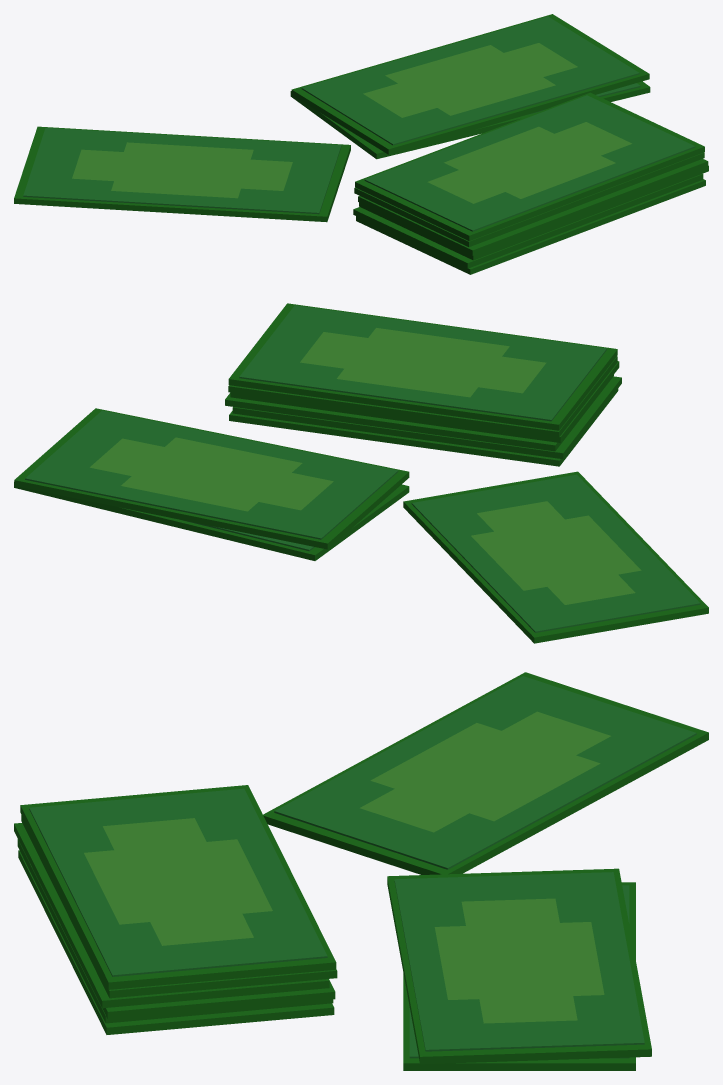
Rendered from cash.fbx.
3 renders of one model, top to bottom at view 1: azimuth 30°, elevation 25°; view 2: azimuth 150°, elevation 25°; view 3: azimuth 270°, elevation 25°, orthographic. The views are drawn at different scales.
Parts seen in each view (by area): view 1: money.002, money.003, money.007, money.001; view 2: money.002, money.003, money.007, money.001; view 3: money.002, money.007, money.003, money.001.
Boxes of the visible parts, x1,y1,x2,y2 form: money.002: (353,92,708,274); money.003: (291,14,649,154); money.007: (14,126,350,222); money.001: (290,81,650,159); money.002: (225,303,621,466); money.003: (14,408,409,549); money.007: (403,471,708,643); money.001: (14,482,409,560); money.002: (14,785,337,1034); money.007: (263,672,708,874); money.003: (387,868,651,1064); money.001: (403,882,635,1070).
Bounding box in the file's own units: 722 × 46.27 × 537.
